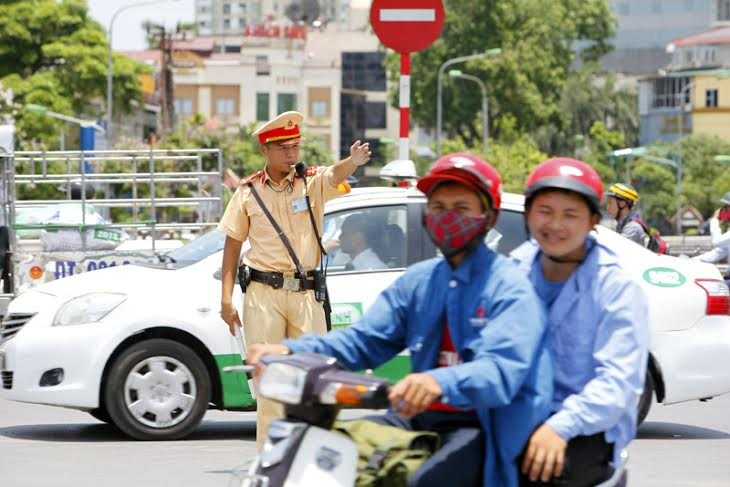police: (216, 108, 380, 466)
